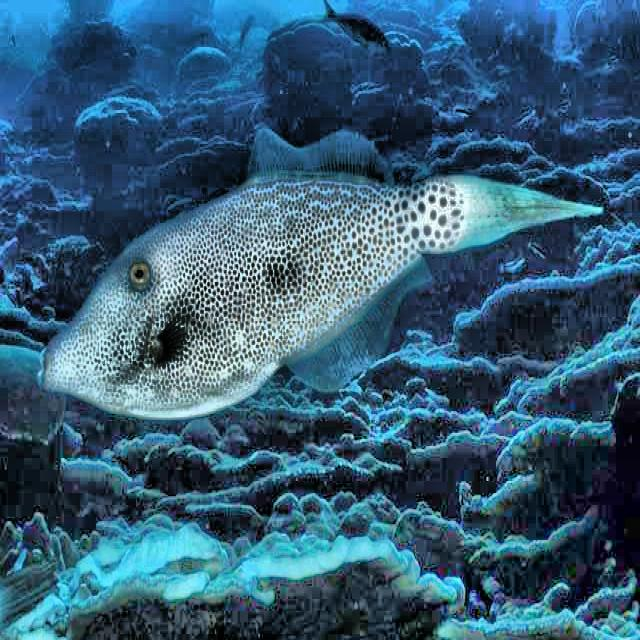fish: (37, 124, 604, 420), (323, 0, 387, 54)
